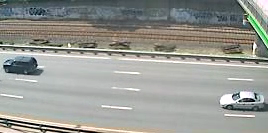car: (216, 89, 268, 114), (1, 55, 42, 77)
